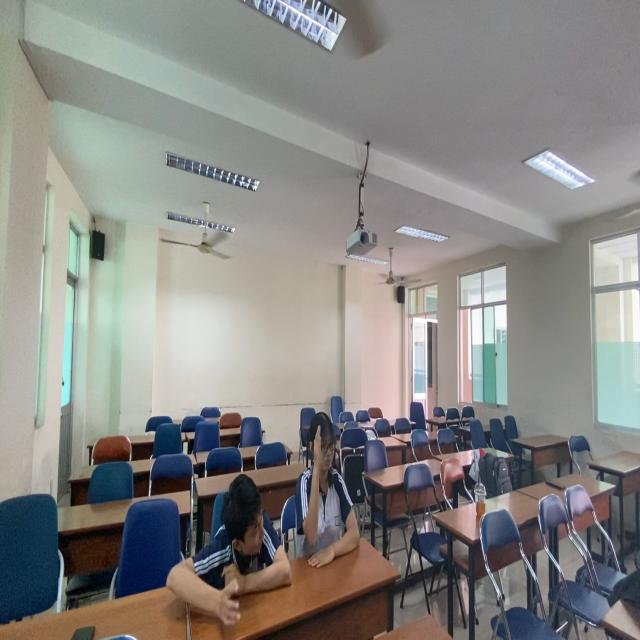raise_hand: (297, 406, 366, 571)
